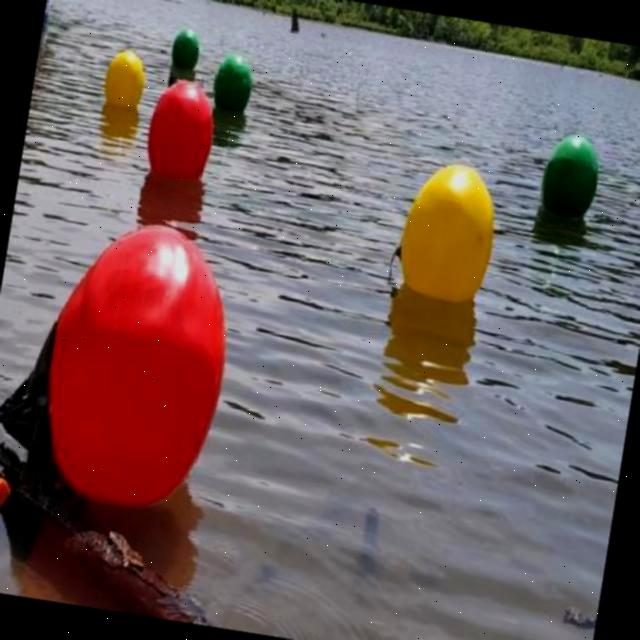buoy: (0, 202, 247, 517), (383, 153, 506, 310), (142, 76, 221, 182), (536, 128, 606, 225), (211, 52, 257, 118), (102, 47, 150, 107), (170, 28, 202, 72)
